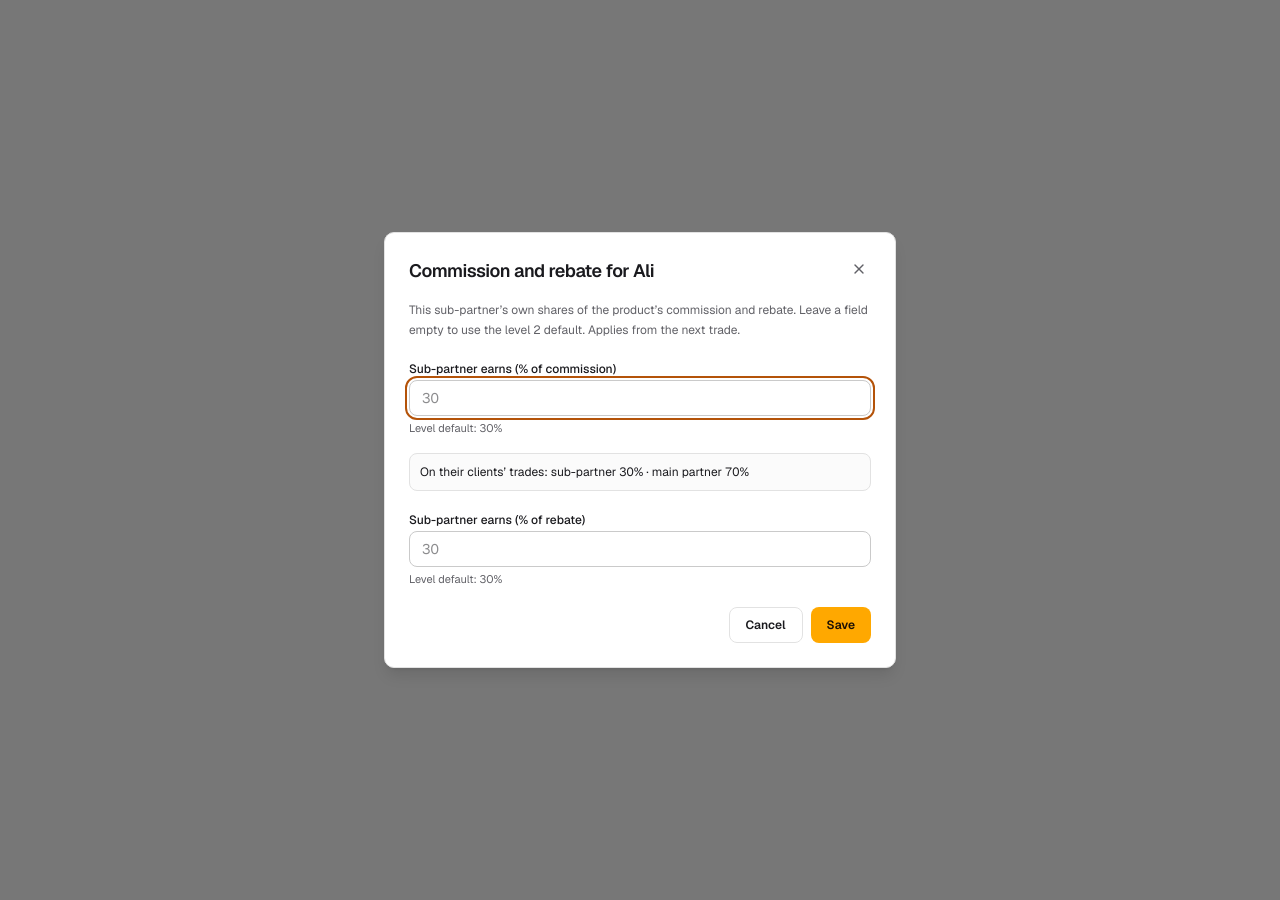
Test case: a sub-partner’s own commission and rebate › shows the main partner taking the rest as the share is typed
Type "50" into the field labelled "Sub-partner earns (% of commission) Level default: 30%". click: (640, 398)
box: left=409, top=380, right=871, bottom=416
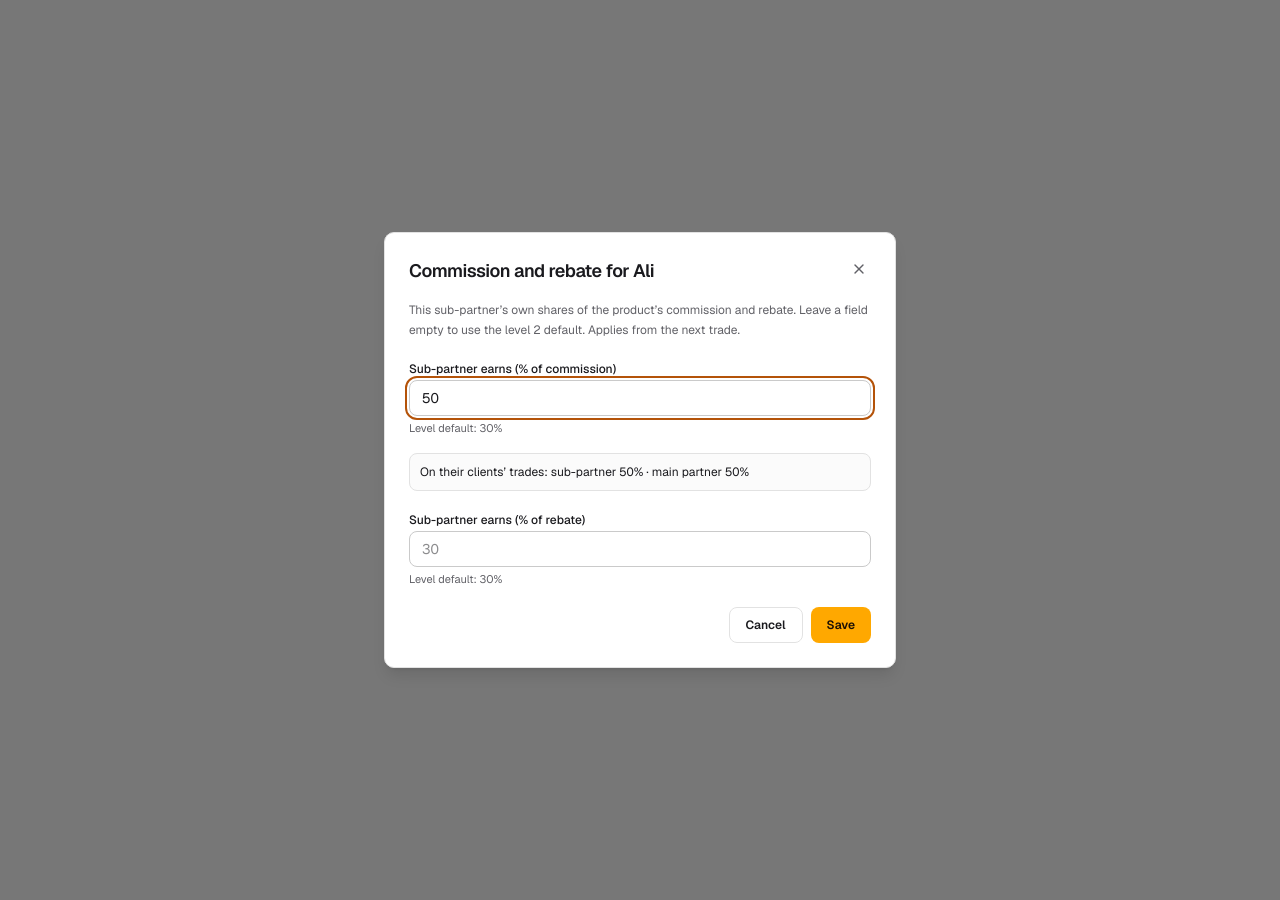
expect the text "On their clients’ trades: sub-partner 50% · main partner 50%" is shown: met, box left=409, top=452, right=871, bottom=490
